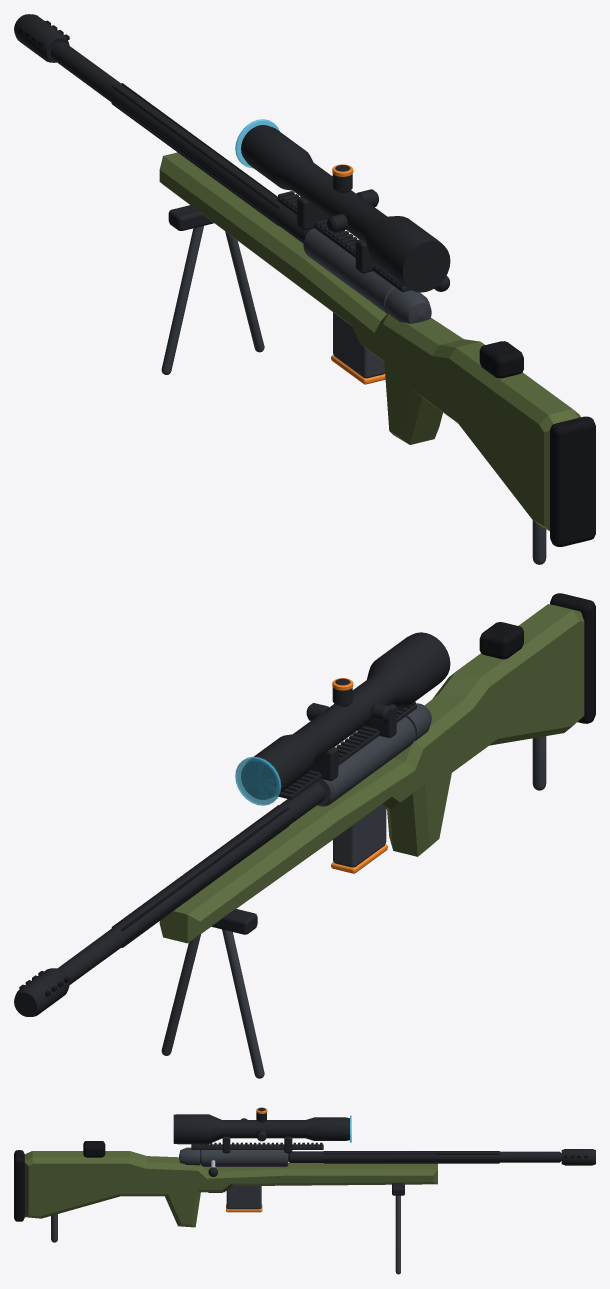
File: sniper.glb
The picture shows the model from 3 angles, top to bottom: view 1: azimuth 30°, elevation 25°; view 2: azimuth 150°, elevation 25°; view 3: azimuth 270°, elevation 25°; orthographic projection. The views are drawn at different scales.
Visible parts, largest first — view 1: chassis, scope, barrel, buttpad, receiver, magazine, bipod_L, muzzle_brake, cheek_riser, bolt_shroud, bipod_R, bipod_mount; view 2: chassis, scope, barrel, receiver, magazine, buttpad, objective_lens, muzzle_brake, bipod_L, cheek_riser, bipod_R, bipod_mount (+2 smaller); view 3: chassis, scope, barrel, receiver, magazine, buttpad, rail_base, muzzle_brake, bipod_R, cheek_riser, flute_0, flute_1 (+2 smaller).
Part boxes in pixels (x1,y1,x2,y2): chassis: (159,152,580,530); scope: (241,125,450,292); barrel: (51,42,310,243); buttpad: (550,416,595,546); receiver: (303,228,395,313); magazine: (333,312,384,378); bipod_L: (161,226,203,374); muzzle_brake: (14,14,69,62); cheek_riser: (479,341,523,378); bolt_shroud: (385,287,431,323); bipod_R: (225,231,264,352); bipod_mount: (168,205,213,230); chassis: (159,604,584,943); scope: (241,632,450,799); barrel: (57,782,325,984); receiver: (316,717,415,806); magazine: (333,804,386,867); buttpad: (550,593,595,723); objective_lens: (235,756,281,805); muzzle_brake: (14,968,69,1016); bipod_L: (222,929,264,1078); cheek_riser: (479,622,523,659); bipod_R: (161,934,200,1055); bipod_mount: (211,909,257,934); chassis: (24,1151,437,1227); scope: (173,1114,349,1144); barrel: (288,1151,561,1162); receiver: (200,1150,288,1166); magazine: (226,1186,261,1209); buttpad: (14,1150,24,1221); rail_base: (191,1144,323,1149); muzzle_brake: (561,1149,595,1165); bipod_R: (395,1195,400,1274); cheek_riser: (83,1141,105,1157); flute_0: (323,1159,499,1160); flute_1: (324,1153,499,1154).
Bounding box in the file's own units: 0.153 × 0.383 × 1.32.
